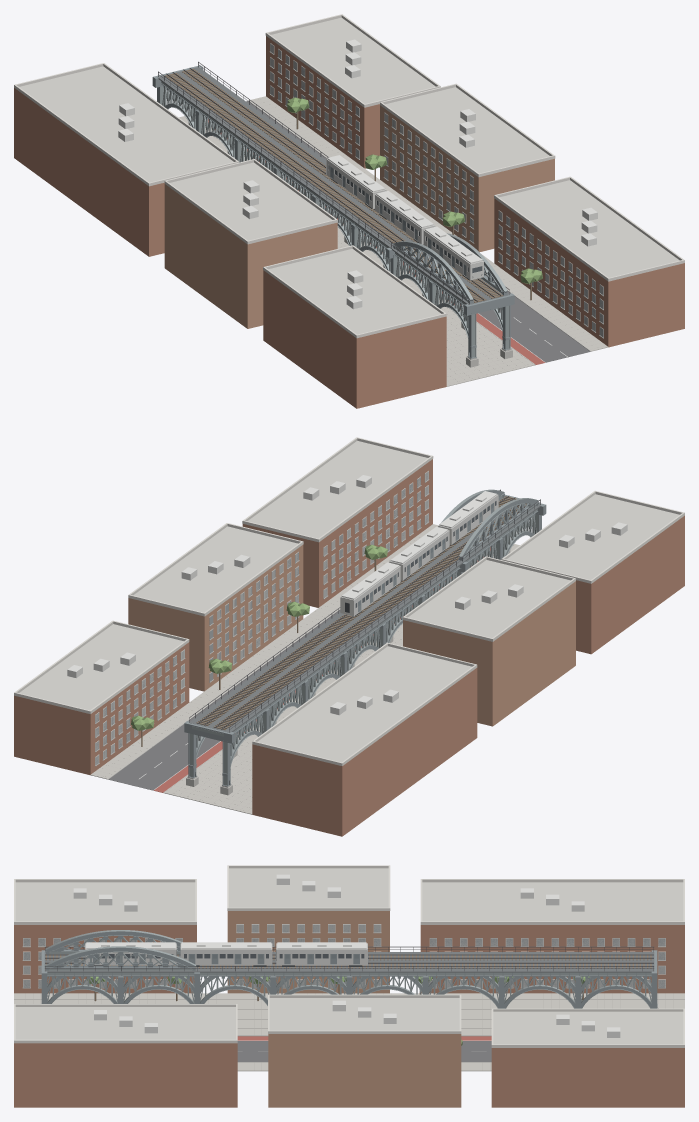
The model's file is clay-rail-through-truss-clay-v005.glb.
3 views of the same model, one above another, from view 1: azimuth 30°, elevation 25°; view 2: azimuth 150°, elevation 25°; view 3: azimuth 270°, elevation 25° (orthographic). The views are drawn at different scales.
Visible parts, largest first — view 1: CLAY_ROOF, CLAY_BRICK, CLAY_BRICK2, CLAY_TRIM, CLAY_PAVING, CLAY_DECK, CLAY_STEEL, CLAY_PLATE, CLAY_GLASS, CLAY_TIMBER, CLAY_PALE, CLAY_ASPHALT (+5 smaller); view 2: CLAY_ROOF, CLAY_BRICK, CLAY_BRICK2, CLAY_TRIM, CLAY_PAVING, CLAY_DECK, CLAY_STEEL, CLAY_GLASS, CLAY_TIMBER, CLAY_PLATE, CLAY_PALE, CLAY_ASPHALT (+5 smaller); view 3: CLAY_ROOF, CLAY_BRICK, CLAY_BRICK2, CLAY_TRIM, CLAY_STEEL, CLAY_PLATE, CLAY_PAVING, CLAY_DECK, CLAY_PALE, CLAY_HARDWARE, CLAY_GLASS, CLAY_SILVER (+6 smaller).
Boxes of the visible parts, x1,y1,x2,y2 form: CLAY_ROOF: (19, 17, 679, 334); CLAY_BRICK: (14, 36, 684, 408); CLAY_BRICK2: (164, 105, 554, 328); CLAY_TRIM: (14, 14, 684, 338); CLAY_PAVING: (179, 96, 608, 386); CLAY_DECK: (157, 67, 509, 304); CLAY_STEEL: (160, 81, 509, 357); CLAY_PLATE: (152, 65, 514, 358); CLAY_GLASS: (270, 44, 603, 336); CLAY_TIMBER: (165, 69, 531, 302); CLAY_PALE: (118, 39, 597, 309); CLAY_ASPHALT: (246, 101, 590, 362); CLAY_ROOF: (19, 441, 679, 762); CLAY_BRICK: (14, 459, 684, 836); CLAY_BRICK2: (128, 545, 575, 726); CLAY_TRIM: (14, 437, 684, 765); CLAY_PAVING: (91, 524, 519, 814); CLAY_DECK: (189, 496, 540, 732); CLAY_STEEL: (189, 489, 538, 785); CLAY_GLASS: (95, 472, 496, 764); CLAY_TIMBER: (141, 496, 526, 746); CLAY_PLATE: (184, 490, 546, 786); CLAY_PALE: (67, 475, 627, 715); CLAY_ASPHALT: (109, 610, 340, 790); CLAY_ROOF: (15, 868, 683, 1044); CLAY_BRICK: (14, 925, 684, 1107); CLAY_BRICK2: (227, 911, 461, 1107); CLAY_TRIM: (14, 865, 684, 1047); CLAY_STEEL: (45, 930, 651, 1008); CLAY_PLATE: (41, 931, 657, 1008); CLAY_PAVING: (14, 993, 684, 1071); CLAY_DECK: (44, 952, 654, 972); CLAY_PALE: (73, 874, 620, 1037); CLAY_HARDWARE: (45, 946, 653, 971); CLAY_GLASS: (23, 925, 665, 987); CLAY_SILVER: (85, 943, 367, 965).
Size of the model in its own units: 73.04 by 19.4 by 132.
